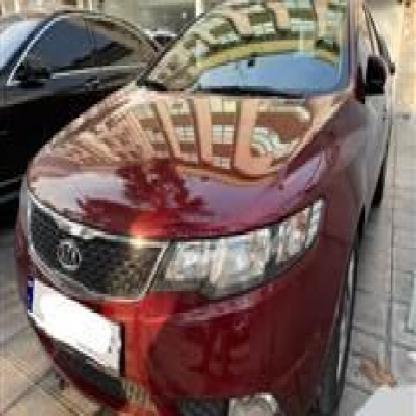Car: (8, 0, 395, 413), (0, 0, 173, 239)
